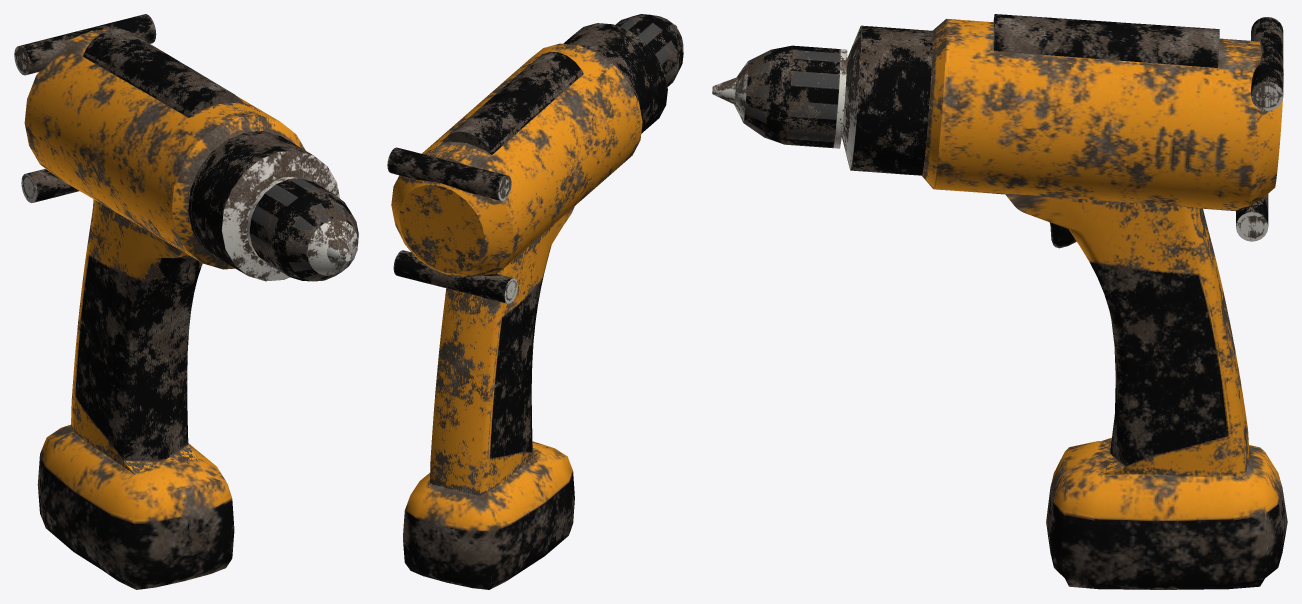
3 renders of one model, left to right at view 1: azimuth 30°, elevation 25°; view 2: azimuth 150°, elevation 25°; view 3: azimuth 270°, elevation 25°, orthographic. The views are drawn at different scales.
Visible parts, largest first — view 1: Main body, Grip, base, middle body, front, button, drill bit; view 2: Main body, Grip, base, middle body, front; view 3: Main body, Grip, base, middle body, front.
Part boxes in pixels (box(x1,y1,x2,y2)): Main body: box(14, 14, 305, 269); Grip: box(71, 199, 202, 474); base: box(37, 424, 234, 589); middle body: box(188, 131, 339, 281); front: box(246, 176, 358, 281); button: box(158, 255, 199, 286); drill bit: box(327, 238, 351, 262); Main body: box(387, 43, 642, 303); Grip: box(430, 206, 574, 495); base: box(403, 441, 574, 589); middle body: box(563, 23, 667, 133); front: box(615, 14, 683, 86); Main body: box(922, 14, 1283, 241); Grip: box(1005, 194, 1249, 476); base: box(1046, 441, 1287, 589); middle body: box(841, 25, 932, 175); front: box(734, 45, 847, 148).
Size of the model in its own units: 0.2852 by 1 by 0.9526.
7 materials, 7 textured.
